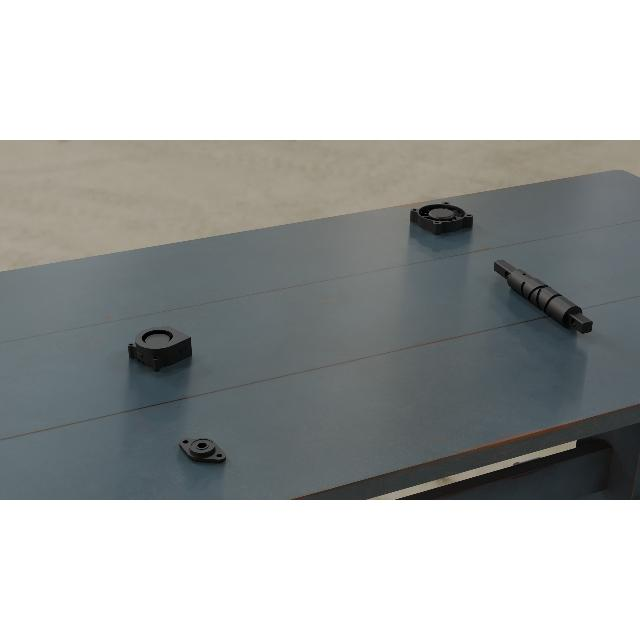Pieza1: (489, 254, 599, 340)
Pieza2: (170, 429, 234, 469)
Pieza3: (124, 322, 192, 374)
Pieza4: (408, 202, 476, 236)
